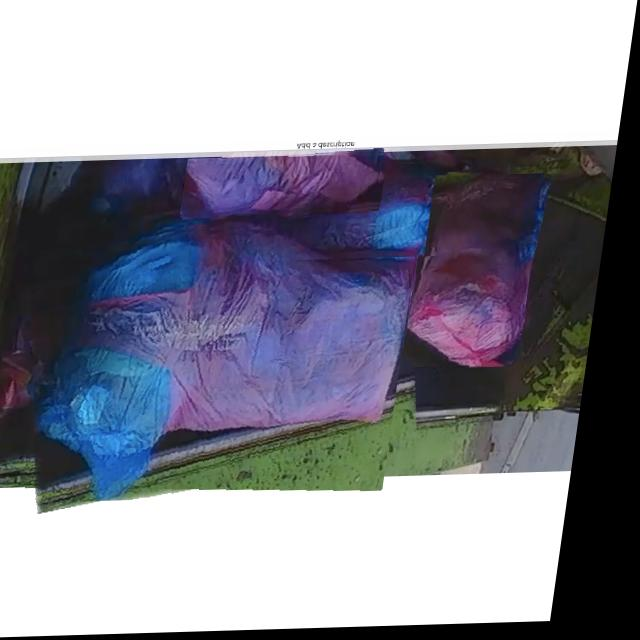other_trashbag: (48, 229, 420, 501), (418, 180, 540, 370), (285, 164, 448, 258), (192, 155, 385, 218)
